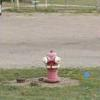a fire hydrant: (44, 47, 60, 83)
